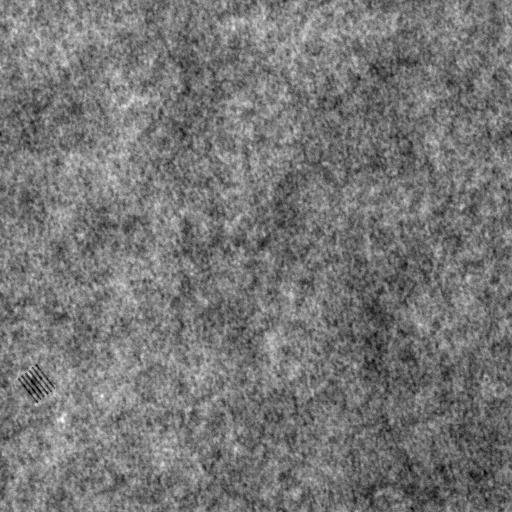DefectTypeB: (16, 364, 56, 402)
